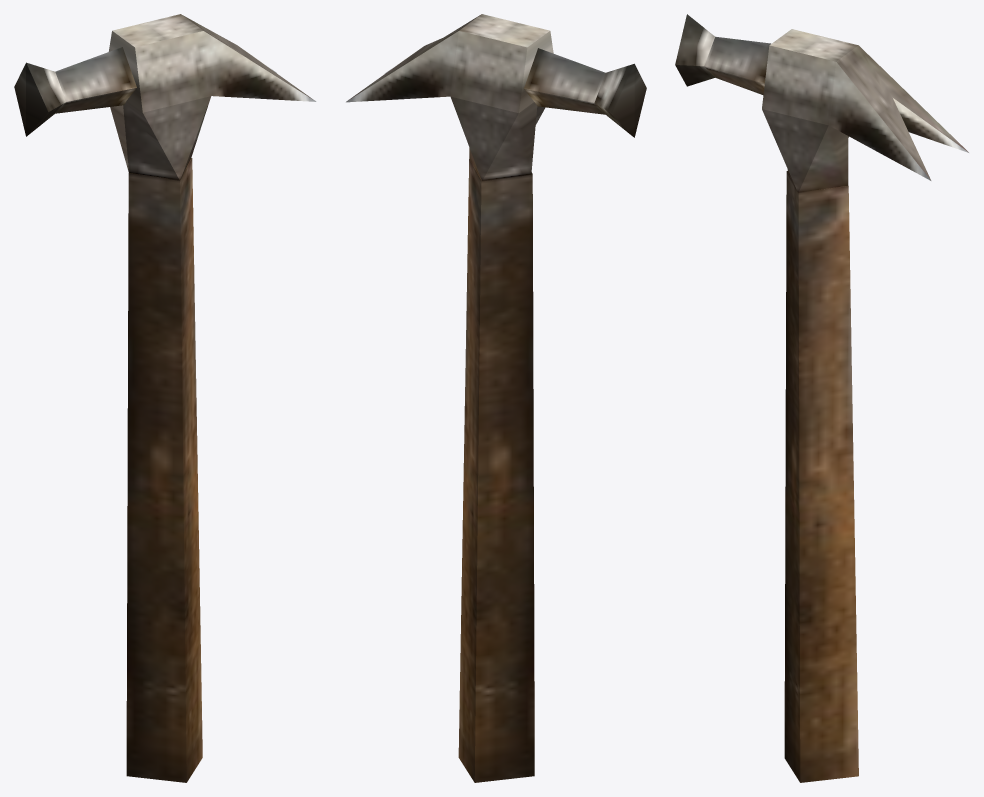
File: tool_hammer.fbx
The picture shows the model from 3 angles, left to right: view 1: azimuth 30°, elevation 25°; view 2: azimuth 150°, elevation 25°; view 3: azimuth 330°, elevation 25°; orthographic projection. The views are drawn at different scales.
Parts seen in each view (by area): view 1: Hammer; view 2: Hammer; view 3: Hammer.
Boxes of the visible parts, <box> form: Hammer: <box>14,14,316,782</box>; Hammer: <box>346,14,646,782</box>; Hammer: <box>675,14,968,782</box>.
Bounding box in the file's own units: 121 × 317 × 34.21.
1 material, 1 textured.
